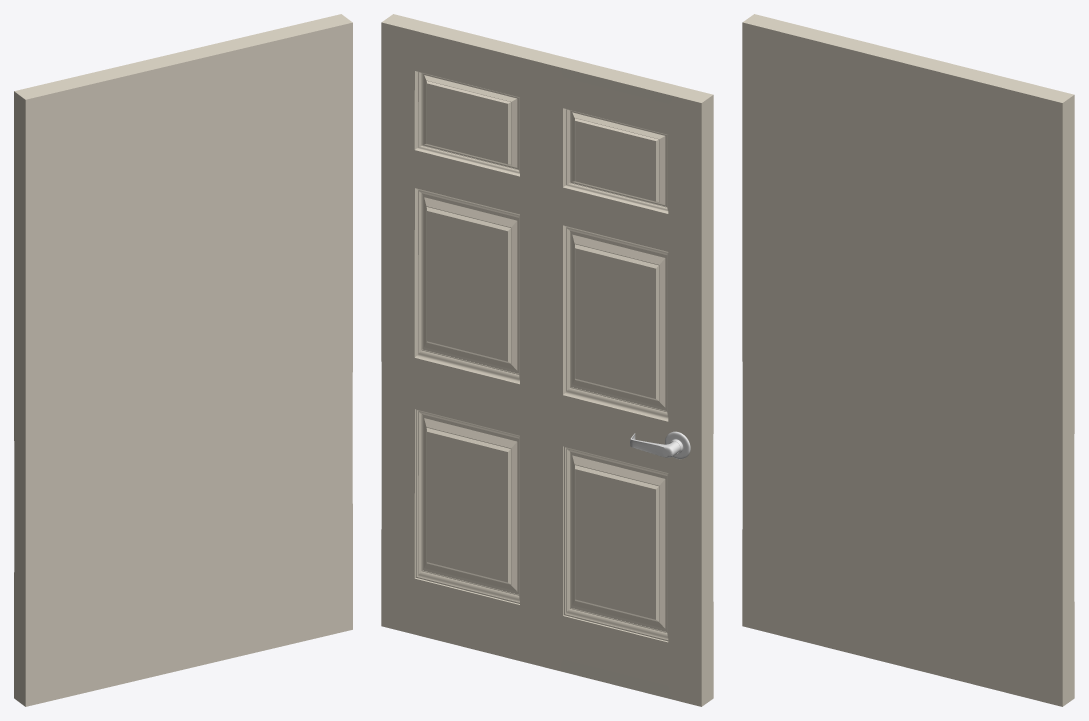
File: Door.gltf
The picture shows the model from 3 angles, left to right: view 1: azimuth 30°, elevation 25°; view 2: azimuth 150°, elevation 25°; view 3: azimuth 330°, elevation 25°; orthographic projection.
Parts seen in each view (by area): view 1: Door; view 2: Door, Handle; view 3: Door.
Boxes of the visible parts, x1,y1,x2,y2 form: Door: (14,14,352,706); Door: (381,14,713,706); Handle: (630,431,690,459); Door: (742,14,1074,706).
Bounding box in the file's own units: 4.32 × 7.71 × 0.5697.
